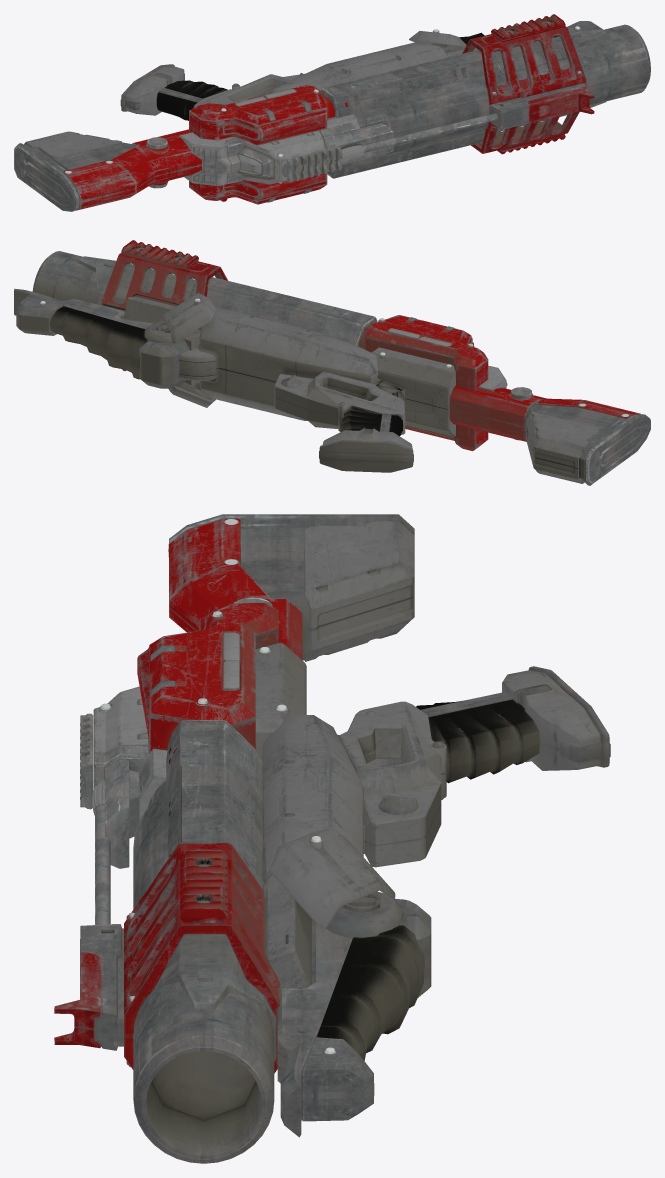
The model's file is Granatwerfer.glb.
The picture shows the model from 3 angles, top to bottom: view 1: azimuth 30°, elevation 25°; view 2: azimuth 150°, elevation 25°; view 3: azimuth 270°, elevation 25°; orthographic projection. The views are drawn at different scales.
Visible parts, largest first — view 1: Granatwerfer; view 2: Granatwerfer; view 3: Granatwerfer.
Boxes of the visible parts, left/top/right/bottom form: Granatwerfer: left=14, top=14, right=650, bottom=211; Granatwerfer: left=14, top=240, right=650, bottom=485; Granatwerfer: left=54, top=514, right=610, bottom=1163.
Size of the model in its own units: 0.7893 by 0.1544 by 0.3287.
2 materials, 2 textured.
